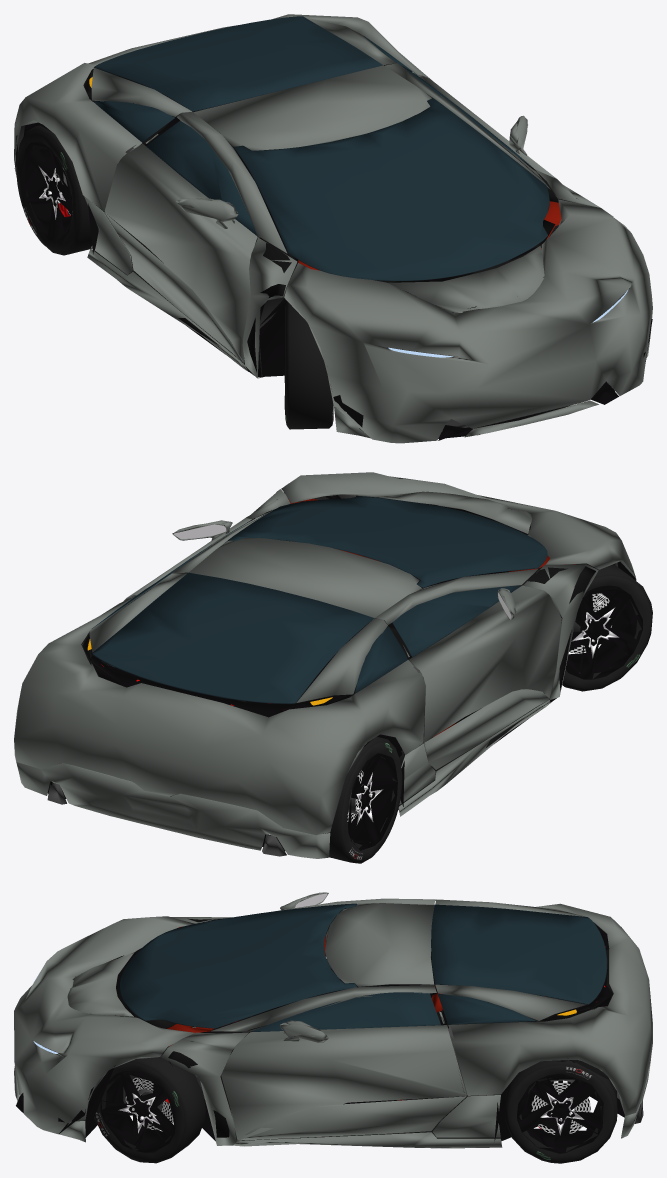
File: vehicle-cded5c3562e9.glb
3 views of the same model, one above another, from view 1: azimuth 30°, elevation 25°; view 2: azimuth 150°, elevation 25°; view 3: azimuth 270°, elevation 25° (orthographic). The views are drawn at different scales.
Parts seen in each view (by area): view 1: Paint 1 Carmine, Glass, Paint 2 Carmine, Tiretread, vehicle, Rim1, Tireside, Panel Sides, Mechanical, Interior 1; view 2: Paint 1 Carmine, Glass, Paint 2 Carmine, Rim1, Tireside, vehicle, Tiretread, Panel Sides, Mechanical, Rim2, Mirror; view 3: Paint 1 Carmine, Glass, Paint 2 Carmine, Rim1, Tireside, Tiretread, vehicle, Panel Sides, Disc, Interior 1, Rim2, Mechanical (+1 smaller).
Part boxes in pixels (left/top/right/bottom): Paint 1 Carmine: left=14, top=14, right=652, bottom=443; Glass: left=94, top=16, right=549, bottom=280; Paint 2 Carmine: left=14, top=65, right=651, bottom=438; Tiretread: left=19, top=125, right=332, bottom=429; vehicle: left=24, top=69, right=652, bottom=440; Rim1: left=20, top=141, right=285, bottom=414; Tireside: left=16, top=130, right=333, bottom=424; Panel Sides: left=95, top=171, right=576, bottom=376; Mechanical: left=18, top=75, right=609, bottom=431; Interior 1: left=15, top=63, right=555, bottom=282; Paint 1 Carmine: left=14, top=472, right=636, bottom=835; Glass: left=92, top=496, right=547, bottom=703; Paint 2 Carmine: left=16, top=491, right=550, bottom=858; Rim1: left=348, top=585, right=642, bottom=850; Tireside: left=341, top=576, right=650, bottom=860; vehicle: left=83, top=495, right=635, bottom=833; Tiretread: left=313, top=495, right=652, bottom=863; Panel Sides: left=257, top=499, right=595, bottom=806; Mechanical: left=47, top=494, right=618, bottom=856; Rim2: left=356, top=608, right=619, bottom=825; Mirror: left=174, top=524, right=511, bottom=619; Paint 1 Carmine: left=14, top=894, right=652, bottom=1145; Glass: left=120, top=903, right=607, bottom=1031; Paint 2 Carmine: left=14, top=892, right=652, bottom=1148; Rim1: left=100, top=1071, right=603, bottom=1153; Tireside: left=95, top=1062, right=614, bottom=1161; Tiretread: left=94, top=1051, right=617, bottom=1163; vehicle: left=16, top=908, right=643, bottom=1141; Panel Sides: left=168, top=918, right=499, bottom=1141; Disc: left=125, top=1077, right=590, bottom=1134; Interior 1: left=116, top=923, right=640, bottom=1119; Rim2: left=118, top=1092, right=584, bottom=1135; Mechanical: left=36, top=1026, right=643, bottom=1123.
Size of the model in its own units: 2.71 by 1.23 by 4.63.
22 materials, 5 textured.
